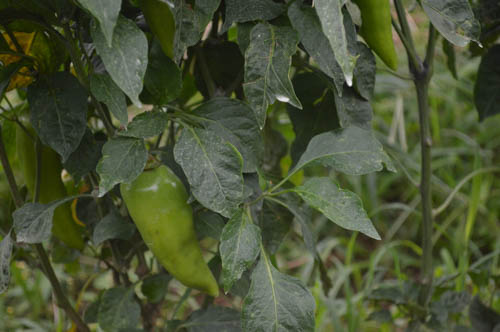ChiliPepper: (127, 167, 219, 302), (15, 121, 80, 252), (362, 2, 401, 74)
